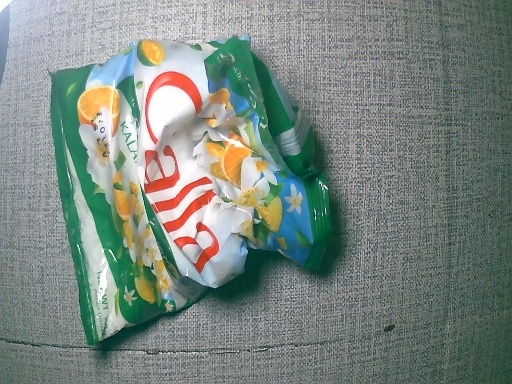plastic: (48, 41, 352, 357)
